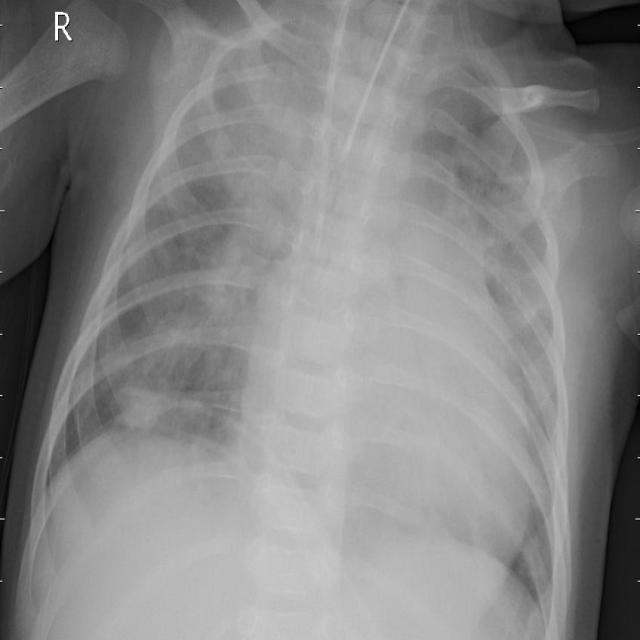high-pneumonia: (186, 20, 345, 368)
low-pneumonia: (410, 51, 549, 322), (100, 330, 216, 441)
